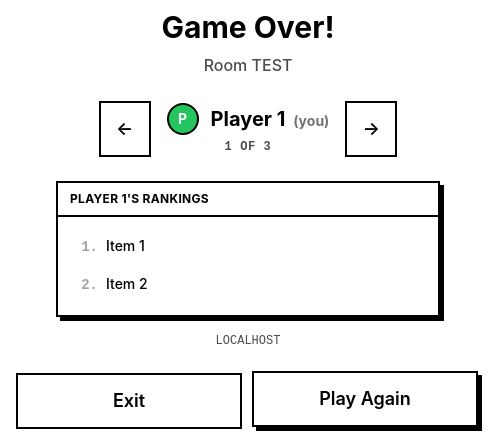
it: RevealScreen › navigates between players
This screenshot has width=499, height=448.
expect the text "Player 1" is shown: met, box [211,107,285,131]
Click the button "→". click: click(371, 129)
box: [345,101,397,157]
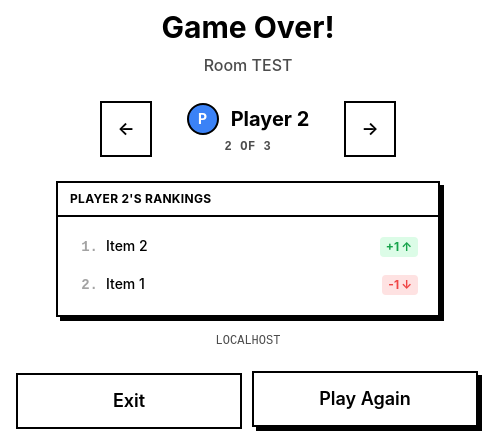
expect the text "Player 2" is shown: met, box [231,105,309,133]
